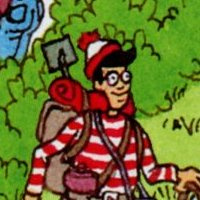waldo: (92, 36, 136, 112)
